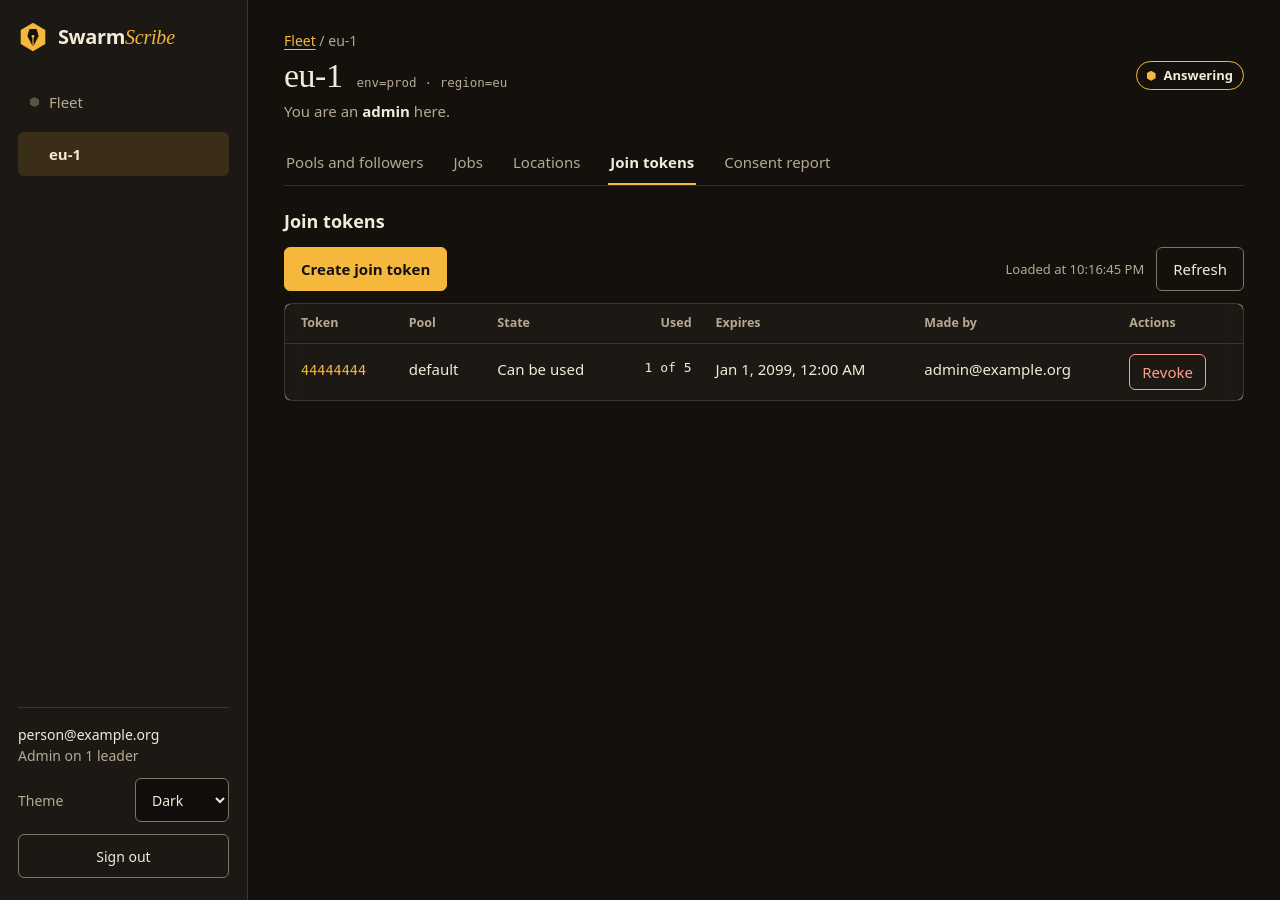
Test: join tokens tab: list and revoke › asks first, then revokes, announces it and reloads the list
Click the button with aria-label "Revoke token 44444444".
click(1168, 372)  # box [1129, 354, 1206, 390]
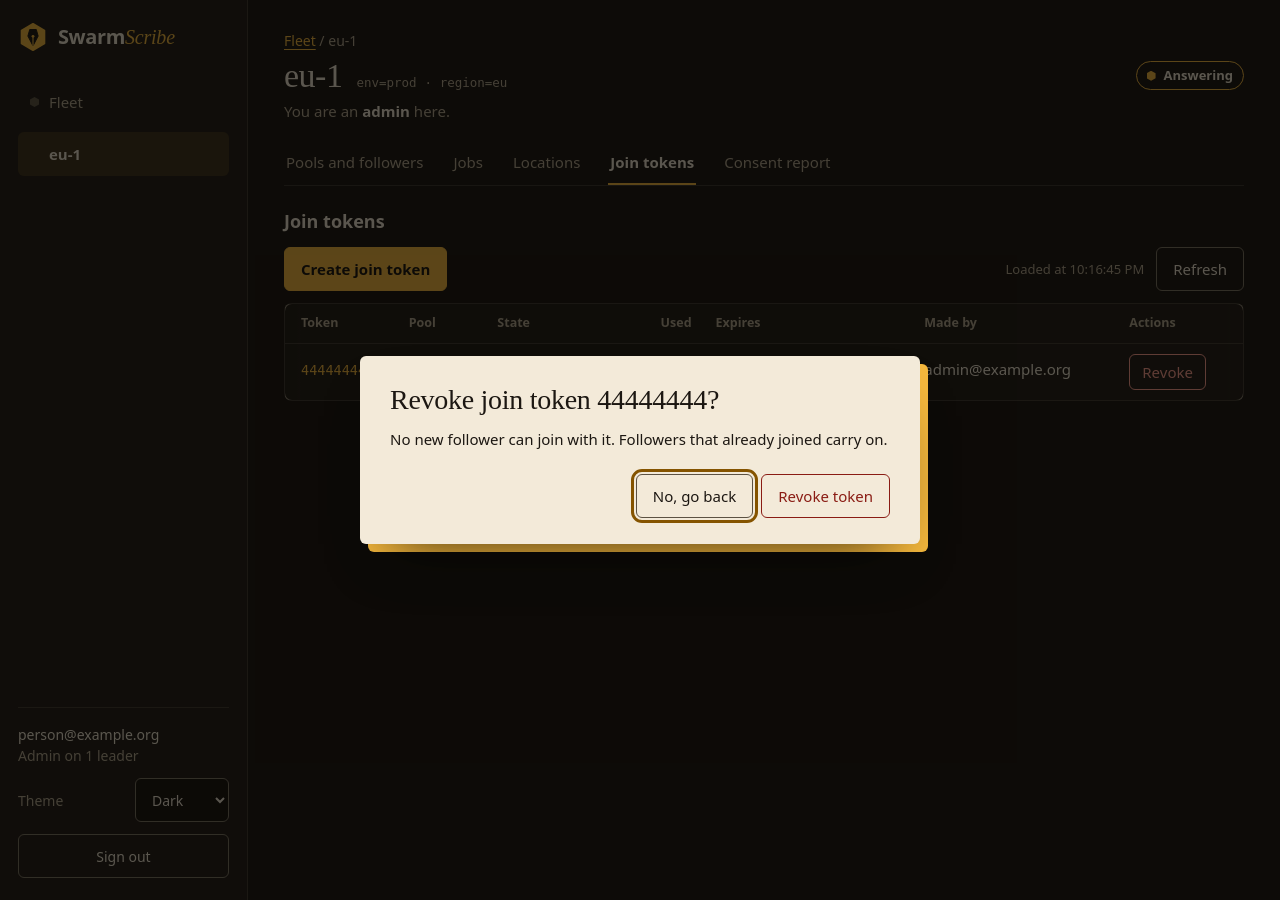
Click the button "Revoke token".
click(826, 496)  # box [761, 474, 890, 518]
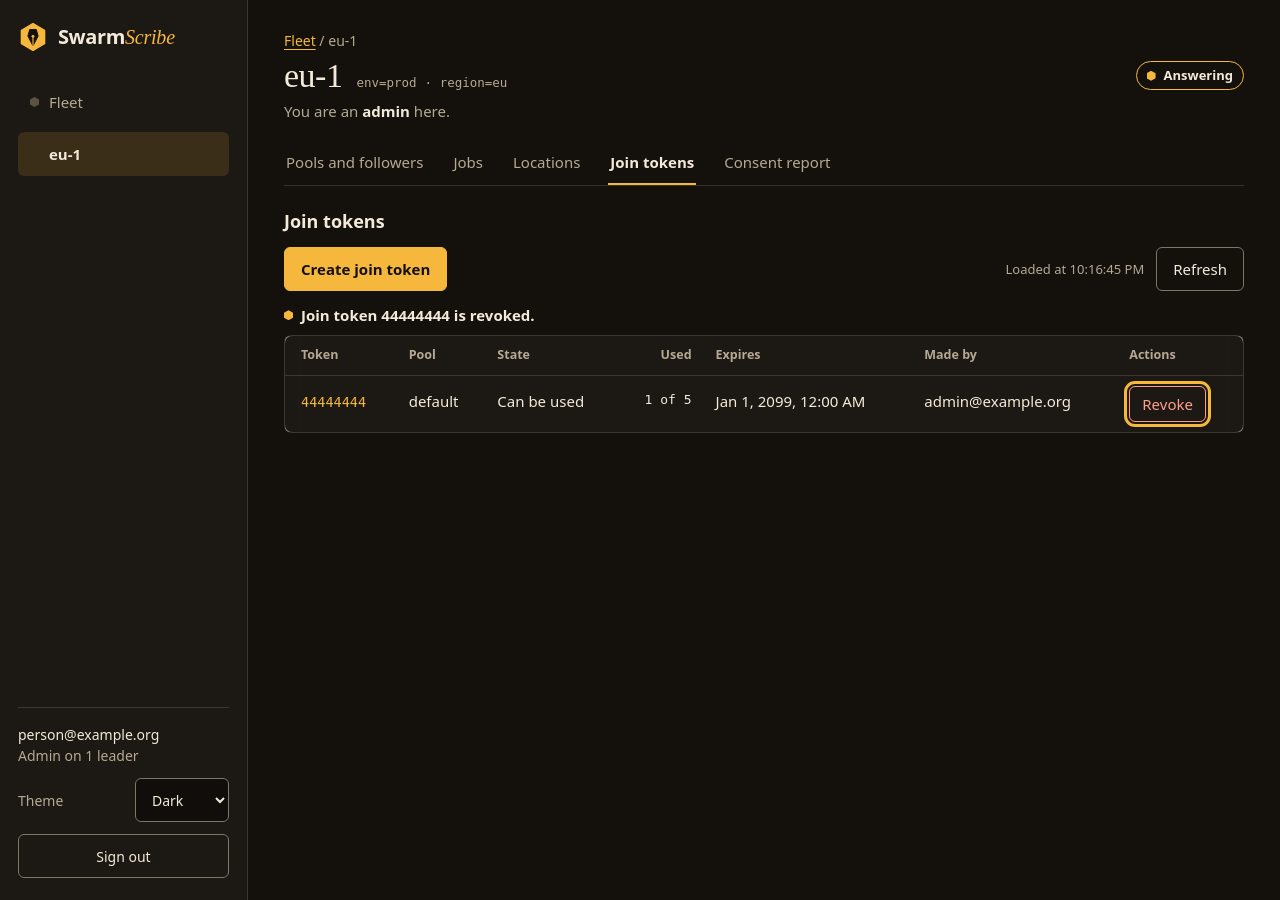
Check: the text "Join token 44444444 is revoked." is shown, box [301, 305, 535, 325]
Check: the dialog is gone
